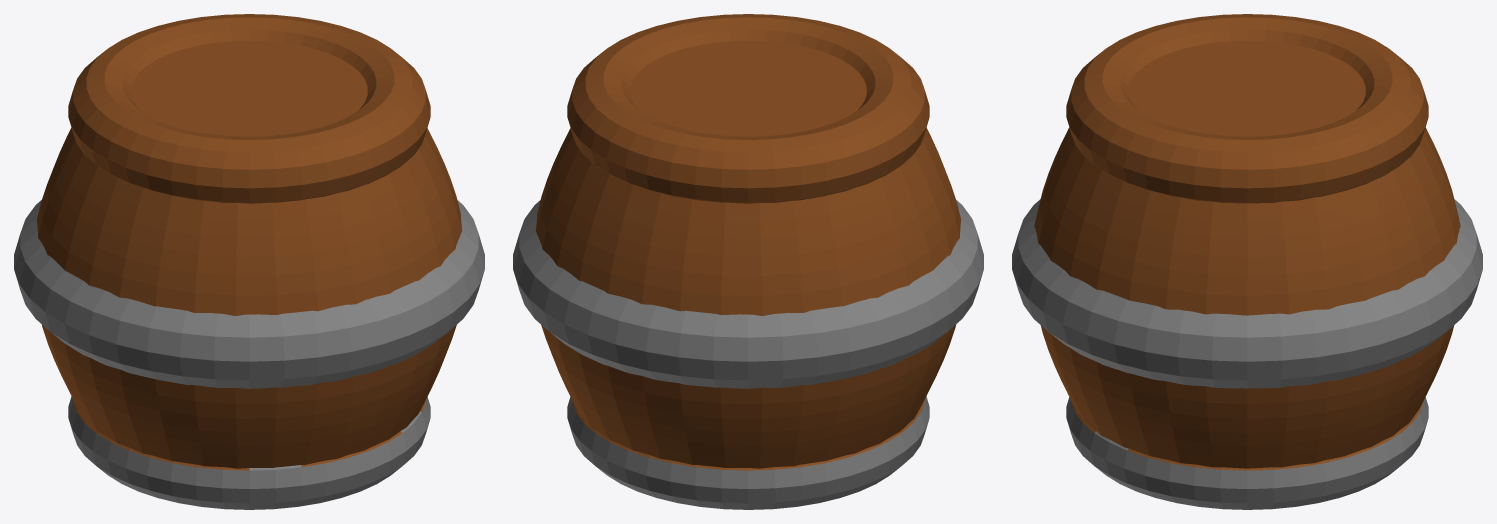
The model's file is barrelTEXT.fbx.
The picture shows the model from 3 angles, left to right: view 1: azimuth 30°, elevation 25°; view 2: azimuth 150°, elevation 25°; view 3: azimuth 270°, elevation 25°; orthographic projection.
Visible parts, largest first — view 1: Cylinder; view 2: Cylinder; view 3: Cylinder.
Boxes of the visible parts, box(x1,y1,x2,y2) form: Cylinder: box(14, 14, 484, 509); Cylinder: box(513, 14, 983, 509); Cylinder: box(1012, 14, 1482, 509).
Bounding box in the file's own units: 250 × 214 × 249.
